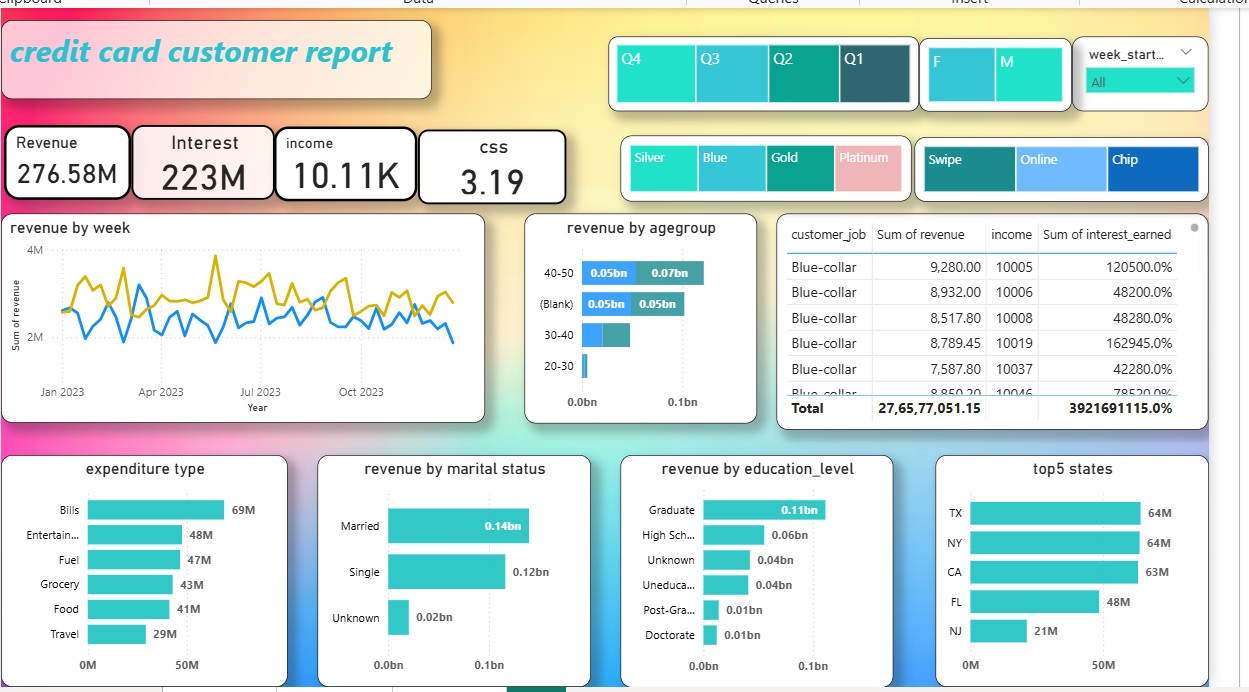

The dashboard page shown, as its layout file describes it:
{"tool":"powerbi","page":{"name":"Page 2","canvas":[1280,720],"ordinal":1},"visuals":[{"type":"barChart","title":" expenditure type","fields":{"Category":["public cc_detail (2).exp_type"],"Y":["Sum(public cc_detail (2).revenue)"]},"box":[0,474.3,304.3,245.7],"z":0},{"type":"tableEx","fields":{"Values":["public cust_detail.customer_job","Sum(public cc_detail (2).revenue)","public cust_detail.income","Sum(public cc_detail (2).interest_earned)"]},"box":[822.3,217.9,458.1,229],"z":1000},{"type":"card","title":"Revenue","fields":{"Values":["Sum(public cc_detail (2).revenue)"]},"box":[3.2,124.7,134.4,79.3],"z":2000},{"type":"card","title":"Interest","fields":{"Values":["Sum(public cc_detail (2).total_trans_amt)"]},"box":[137.6,124.7,152.2,79.3],"z":3000},{"type":"card","title":"income","fields":{"Values":["CountNonNull(public cust_detail.income)"]},"box":[289.8,126.3,152.2,79.3],"z":4000},{"type":"card","title":"css","fields":{"Values":["Avg(public cust_detail.cust_satisfaction_score)"]},"box":[442,129.5,157.1,79.3],"z":5000},{"type":"slicer","fields":{"Values":["public cc_detail (2).week_start_date"]},"box":[1135.7,30.2,144.7,79.5],"z":6000},{"type":"treemap","fields":{"Group":["public cc_detail (2).qtr"],"Values":["Avg(public cc_detail (2).client_num)"]},"box":[644.2,30.2,329.3,79.5],"z":7000},{"type":"treemap","fields":{"Group":["public cust_detail.gender"],"Values":["Avg(public cc_detail (2).client_num)"]},"box":[973.5,31.8,162.2,77.9],"z":8000},{"type":"treemap","fields":{"Values":["Avg(public cc_detail (2).client_num)"],"Group":["public cc_detail (2).card_category"]},"box":[656.9,135.2,308.6,70],"z":9000},{"type":"textbox","box":[0,13,456.6,84.2],"z":10000},{"type":"lineChart","title":" revenue by  week","fields":{"Y":["Sum(public cc_detail (2).revenue)"],"Series":["public cust_detail.gender"],"Category":["public cc_detail (2).week_start_date.Variation.Date Hierarchy.Year","public cc_detail (2).week_start_date.Variation.Date Hierarchy.Month","public cc_detail (2).week_start_date.Variation.Date Hierarchy.Day"]},"box":[0,218.6,513.3,221.8],"z":11000},{"type":"barChart","title":"revenue by agegroup","fields":{"Category":["public cust_detail.agegroup"],"Y":["Sum(public cc_detail (2).revenue)"],"Series":["public cust_detail.gender"]},"box":[555.1,217.9,246.5,222.7],"z":12000},{"type":"barChart","title":"revenue by education_level","fields":{"Category":["public cust_detail.education_level"],"Y":["Sum(public cc_detail (2).revenue)"]},"box":[656.9,473.5,289.5,246.5],"z":13000},{"type":"barChart","title":"top5 states","fields":{"Y":["Sum(public cc_detail (2).revenue)"],"Category":["public cust_detail.state_cd"]},"box":[991,474.4,289.8,246.1],"z":14000},{"type":"barChart","title":"revenue by marital status","fields":{"Y":["Sum(public cc_detail (2).revenue)"],"Category":["public cust_detail.marital_status","public cust_detail.dependent_count"]},"box":[335.2,474.4,289.8,246.1],"z":15000},{"type":"treemap","fields":{"Values":["Avg(public cc_detail (2).client_num)"],"Group":["public cc_detail (2).use_chip"]},"box":[968.7,136.8,311.8,68.4],"z":16000}]}

Visuals, with their boxes in screenshot pixels (x1, y1, x2, y2):
" expenditure type" barChart: <box>0,453,282,686</box>
tableEx - public cust_detail.customer_job x Sum(public cc_detail (2).revenue): <box>774,210,1208,427</box>
"Revenue" card: <box>0,122,124,197</box>
"Interest" card: <box>124,122,268,197</box>
"income" card: <box>268,123,413,198</box>
"css" card: <box>413,126,562,201</box>
slicer - public cc_detail (2).week_start_date: <box>1071,32,1208,107</box>
treemap - public cc_detail (2).qtr x Avg(public cc_detail (2).client_num): <box>605,32,917,107</box>
treemap - public cust_detail.gender x Avg(public cc_detail (2).client_num): <box>917,33,1071,107</box>
treemap - Avg(public cc_detail (2).client_num) x public cc_detail (2).card_category: <box>617,132,910,198</box>
textbox: <box>0,16,427,95</box>
" revenue by  week" lineChart: <box>0,211,481,421</box>
"revenue by agegroup" barChart: <box>520,210,754,421</box>
"revenue by education_level" barChart: <box>617,453,892,686</box>
"top5 states" barChart: <box>934,453,1209,687</box>
"revenue by marital status" barChart: <box>312,453,587,687</box>
treemap - Avg(public cc_detail (2).client_num) x public cc_detail (2).use_chip: <box>913,133,1209,198</box>
